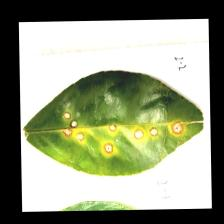canker: (57, 110, 165, 154)
